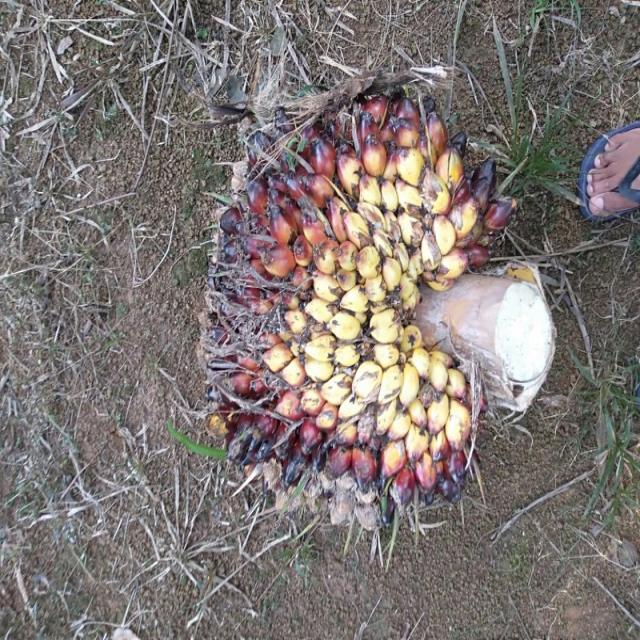fraksi 00: (188, 88, 502, 514)
